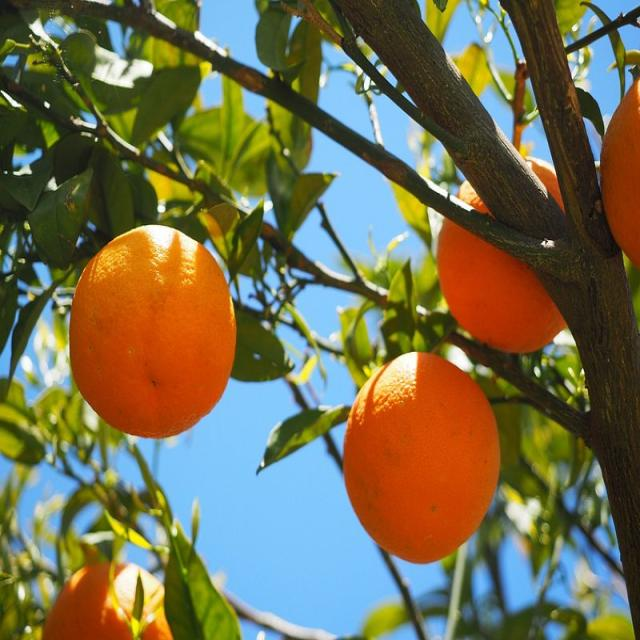orange: (335, 350, 510, 567), (59, 230, 235, 438), (429, 158, 570, 353), (41, 562, 174, 640), (602, 82, 640, 258)
